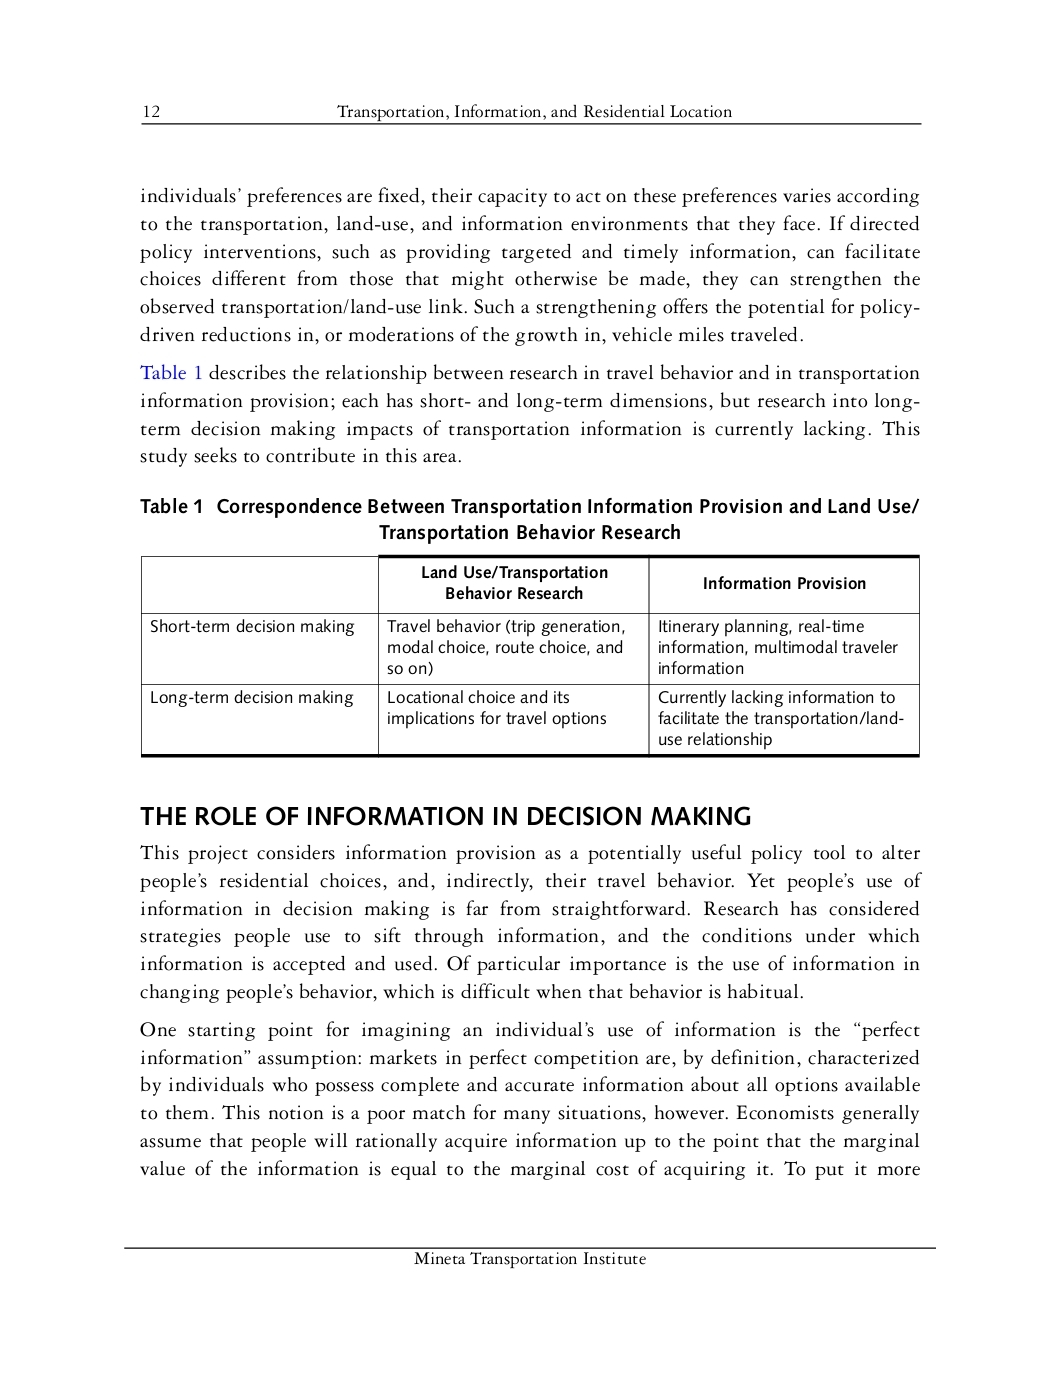Table: (142, 552, 919, 758)
